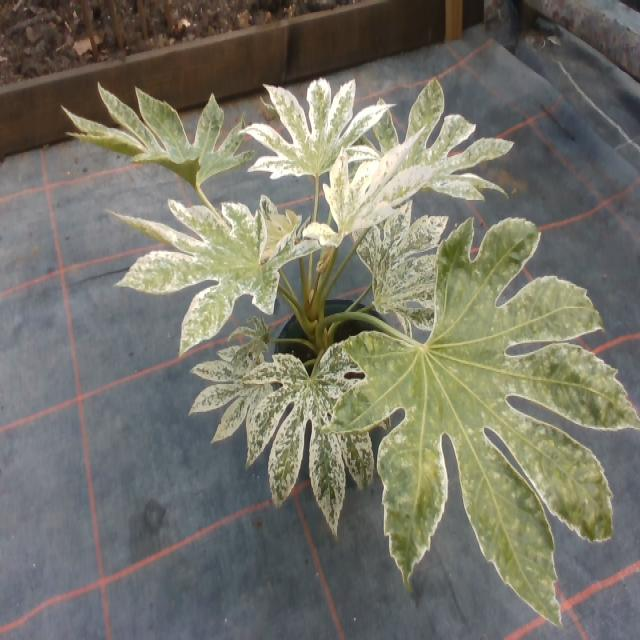Fatsia-japonica: (338, 223, 640, 600), (82, 190, 322, 326), (247, 326, 385, 523), (58, 68, 256, 192), (350, 76, 516, 210), (342, 191, 461, 342), (254, 82, 374, 172), (193, 339, 281, 459), (322, 142, 420, 242)
